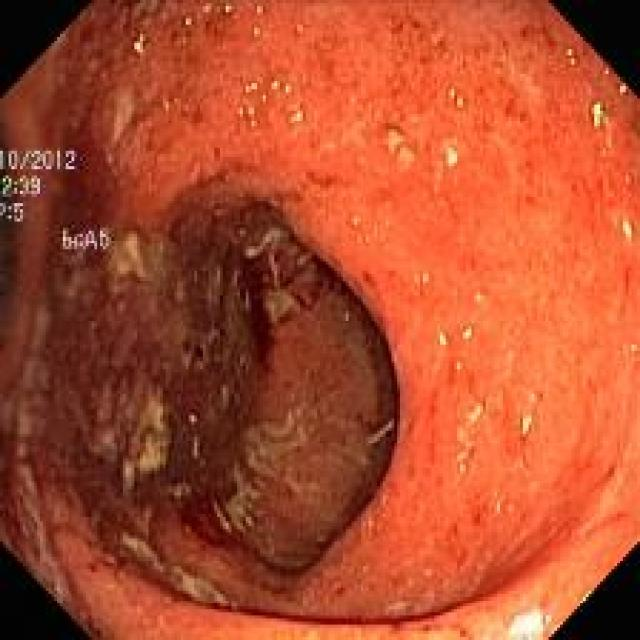ulcerative-colitis-grade-3: (1, 3, 640, 637)
